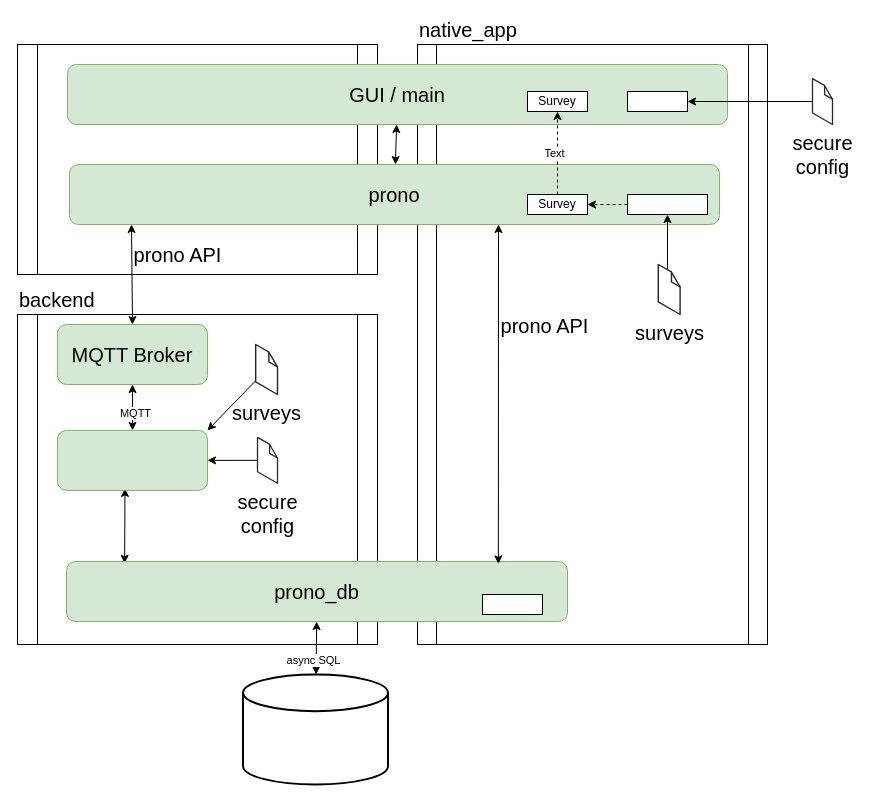
Some shapes in this 870 by 802 pixel diagram are drawn without their labels. Here are the shapes that lost their labels. From the top down, the centre of each, then its label:
(x=657, y=101): config
(x=197, y=159): web_app
(x=667, y=204): FIleSurvey
(x=132, y=459): server
(x=512, y=604): Answers
(x=315, y=729): DB
